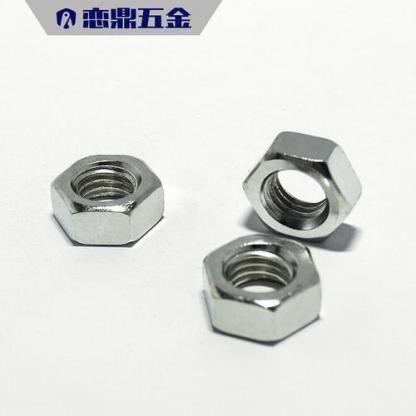FOD: (237, 128, 365, 244), (196, 232, 323, 348), (47, 152, 167, 250)
